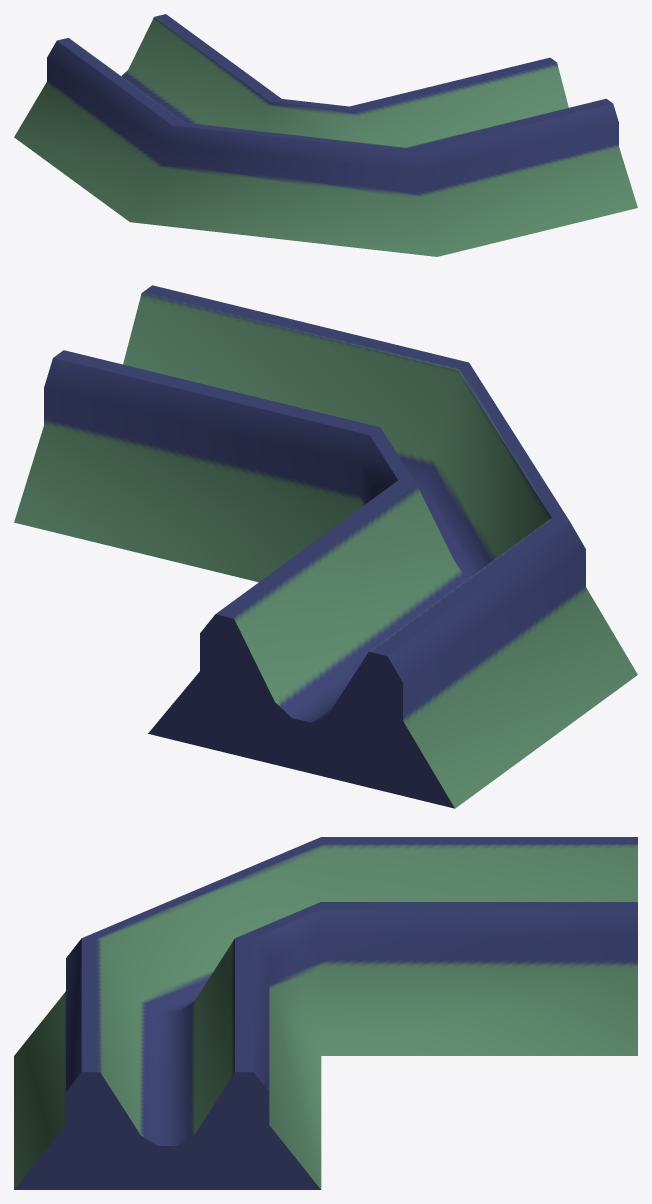
File: energy_circuit_corner.FBX
3 renders of one model, top to bottom at view 1: azimuth 30°, elevation 25°; view 2: azimuth 150°, elevation 25°; view 3: azimuth 270°, elevation 25°, orthographic. The views are drawn at different scales.
Visible parts, largest first — view 1: energy_circuit_corner; view 2: energy_circuit_corner; view 3: energy_circuit_corner.
Part boxes in pixels (left/top/right/bottom): energy_circuit_corner: left=14, top=14, right=637, bottom=256; energy_circuit_corner: left=14, top=285, right=637, bottom=808; energy_circuit_corner: left=14, top=837, right=637, bottom=1189.
Bounding box in the file's own units: 0.8468 × 0.8468 × 0.1764.
